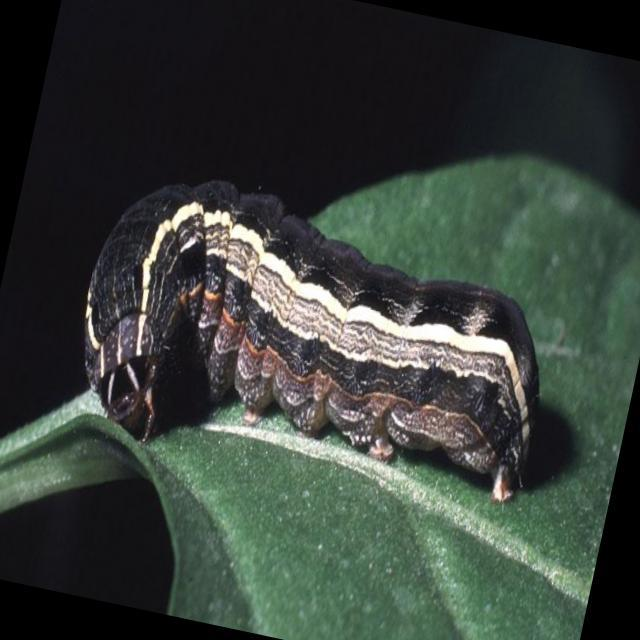Plaga: (53, 141, 590, 537)
